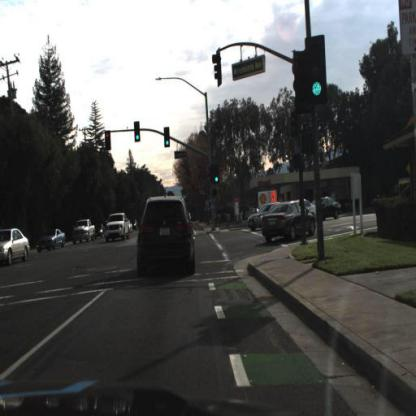car: (132, 191, 199, 281), (260, 199, 315, 246), (2, 227, 32, 268), (102, 208, 133, 243), (36, 225, 68, 254), (71, 215, 95, 248), (315, 198, 342, 221), (245, 202, 266, 231), (93, 222, 107, 242)
trafficLight: (103, 130, 113, 153)
trafficLight-Green: (302, 34, 330, 109), (134, 121, 142, 144), (164, 128, 171, 150), (213, 169, 220, 187)
